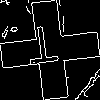T: (25, 25, 61, 74)
